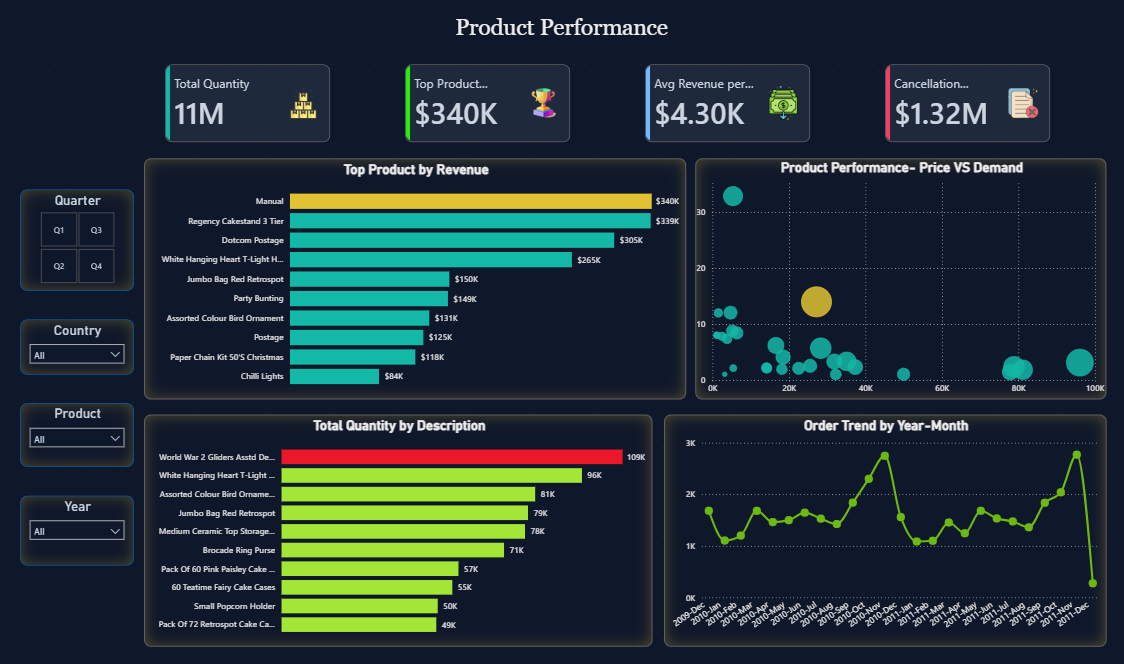

This screenshot's page, from the dashboard's own definition file:
{"tool":"powerbi","page":{"name":"Product","canvas":[1600,950],"ordinal":2},"visuals":[{"type":"clusteredBarChart","title":"Top Product by Revenue","fields":{"Category":["online_retail_II.Description"],"Y":["online_retail_II.Total Revenue"]},"box":[206.2,229.3,771.6,343.1],"z":0},{"type":"clusteredBarChart","fields":{"Category":["online_retail_II.Description"],"Y":["online_retail_II.Total Quantity"]},"box":[206.2,593.8,723.6,330.7],"z":1000},{"type":"scatterChart","title":"Product Performance- Price VS Demand","fields":{"Size":["online_retail_II.Total Revenue"],"Y":["online_retail_II.Average Price"],"X":["online_retail_II.Total Quantity"],"Category":["online_retail_II.Description"]},"box":[990.2,229.3,584.9,343.1],"z":2000},{"type":"lineChart","title":"Order Trend by Year-Month","fields":{"Category":["Date Table.Year-Month"],"Y":["online_retail_II.Total Orders"]},"box":[945.8,593.8,629.3,330.7],"z":3000},{"type":"slicer","title":"Quarter","fields":{"Values":["Date Table.Quarter"]},"box":[30.2,273.8,161.8,144],"z":4000},{"type":"slicer","title":"Country","fields":{"Values":["DimCountry.Country"]},"box":[30.2,458.7,161.8,78.2],"z":5000},{"type":"slicer","title":"Product","fields":{"Values":["online_retail_II.Description"]},"box":[30.2,577.8,161.8,90.7],"z":6000},{"type":"slicer","title":"Year","fields":{"Values":["Date Table.Year"]},"box":[30.2,709.3,161.8,99.6],"z":7000},{"type":"cardVisual","fields":{"Data":["online_retail_II.Total Quantity"]},"box":[236.4,96,234.7,110.2],"z":8000},{"type":"cardVisual","fields":{"Data":["online_retail_II.Top Product Revenue"]},"box":[577.8,96,234.7,110.2],"z":9000},{"type":"cardVisual","fields":{"Data":["online_retail_II.Avg Revenue per Product"]},"box":[919.1,96,234.7,110.2],"z":10000},{"type":"cardVisual","fields":{"Data":["online_retail_II.Cancellation Amount"]},"box":[1260.4,96,234.7,110.2],"z":11000},{"type":"textbox","box":[0,1.8,1600,81.8],"z":12000}]}

Visuals, with their boxes in screenshot pixels (x1, y1, x2, y2), scaled from the page's 1600x950 canvas onto the 1124x664 screenshot:
"Top Product by Revenue" clusteredBarChart: bbox=(145, 160, 687, 400)
clusteredBarChart - online_retail_II.Description x online_retail_II.Total Quantity: bbox=(145, 415, 653, 646)
"Product Performance- Price VS Demand" scatterChart: bbox=(696, 160, 1107, 400)
"Order Trend by Year-Month" lineChart: bbox=(664, 415, 1107, 646)
"Quarter" slicer: bbox=(21, 191, 135, 292)
"Country" slicer: bbox=(21, 321, 135, 375)
"Product" slicer: bbox=(21, 404, 135, 467)
"Year" slicer: bbox=(21, 496, 135, 565)
cardVisual - online_retail_II.Total Quantity: bbox=(166, 67, 331, 144)
cardVisual - online_retail_II.Top Product Revenue: bbox=(406, 67, 571, 144)
cardVisual - online_retail_II.Avg Revenue per Product: bbox=(646, 67, 811, 144)
cardVisual - online_retail_II.Cancellation Amount: bbox=(885, 67, 1050, 144)
textbox: bbox=(0, 1, 1123, 58)
